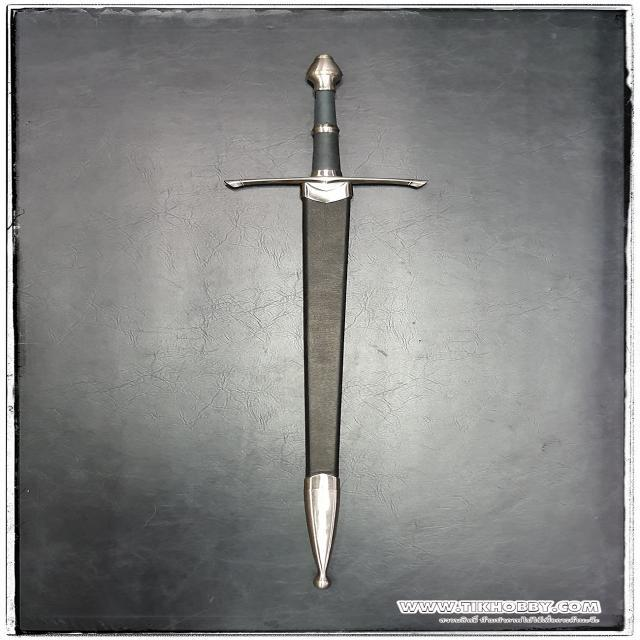long sword: (222, 48, 424, 594)
